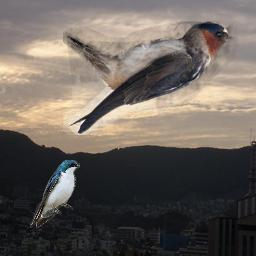Swallow: (63, 21, 238, 135), (30, 160, 80, 228)
